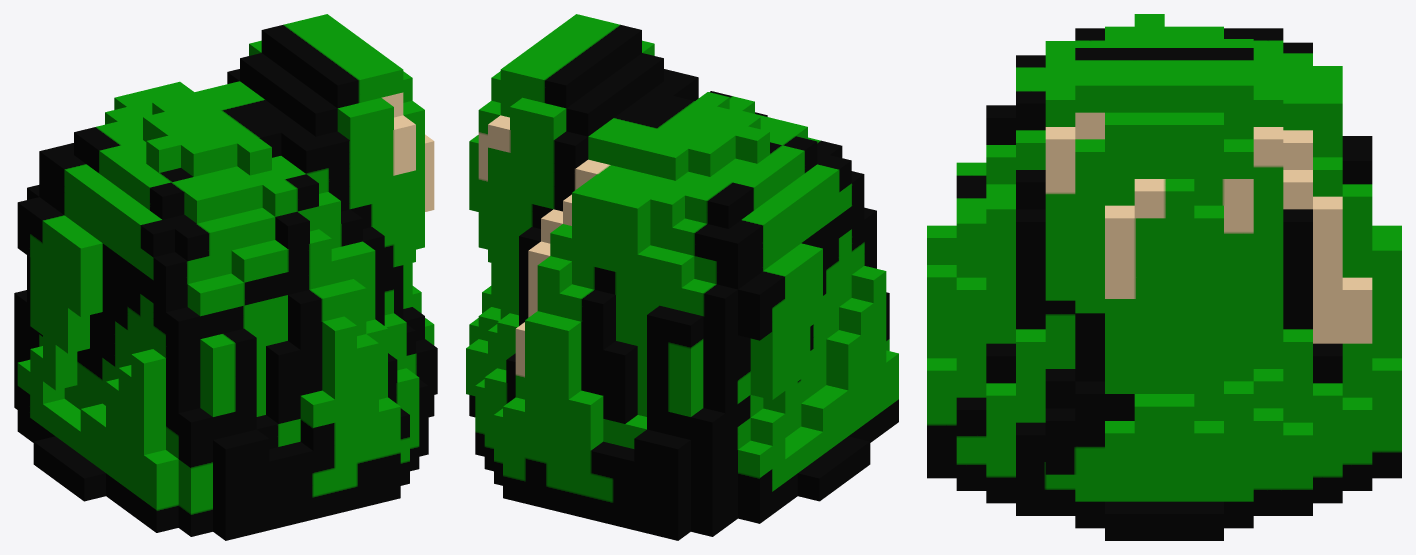
File: Rock.obj
3 views of the same model, side by side, from view 1: azimuth 30°, elevation 25°; view 2: azimuth 150°, elevation 25°; view 3: azimuth 270°, elevation 25° (orthographic). The views are drawn at different scales.
Visible parts, largest first — view 1: Matrix; view 2: Matrix; view 3: Matrix.
Boxes of the visible parts, <box> form: Matrix: <box>14,14,437,540</box>; Matrix: <box>466,14,898,540</box>; Matrix: <box>927,14,1401,540</box>.
Bounding box in the file's own units: 1.6 × 1.6 × 1.6.
1 material, 1 textured.
